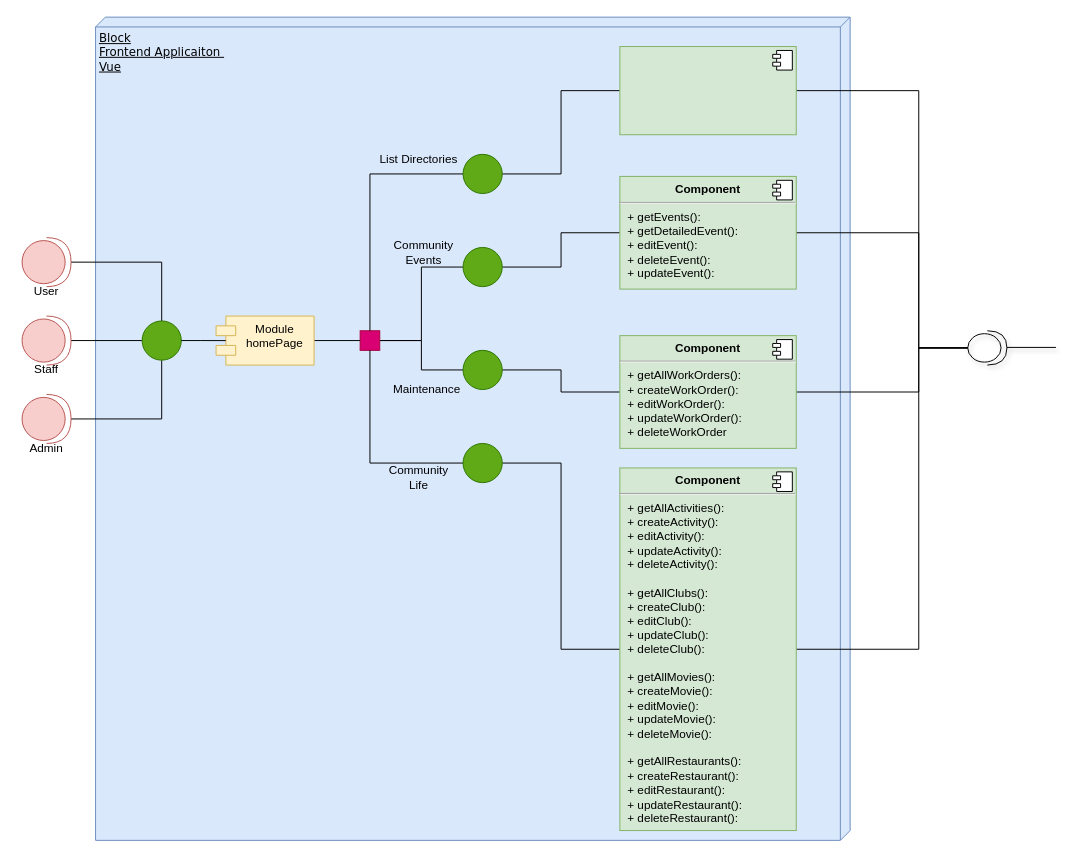
Some shapes in this 1080 by 858 pixel diagram are drawn without their labels. The shapes that lost their labels are listed below. From the top down, each one's centre as x and y in pixels, then its label:
the point at 707,90: Component + getStaffList(): + getResidentList():
the point at 161,340: Login
the point at 988,349: API
